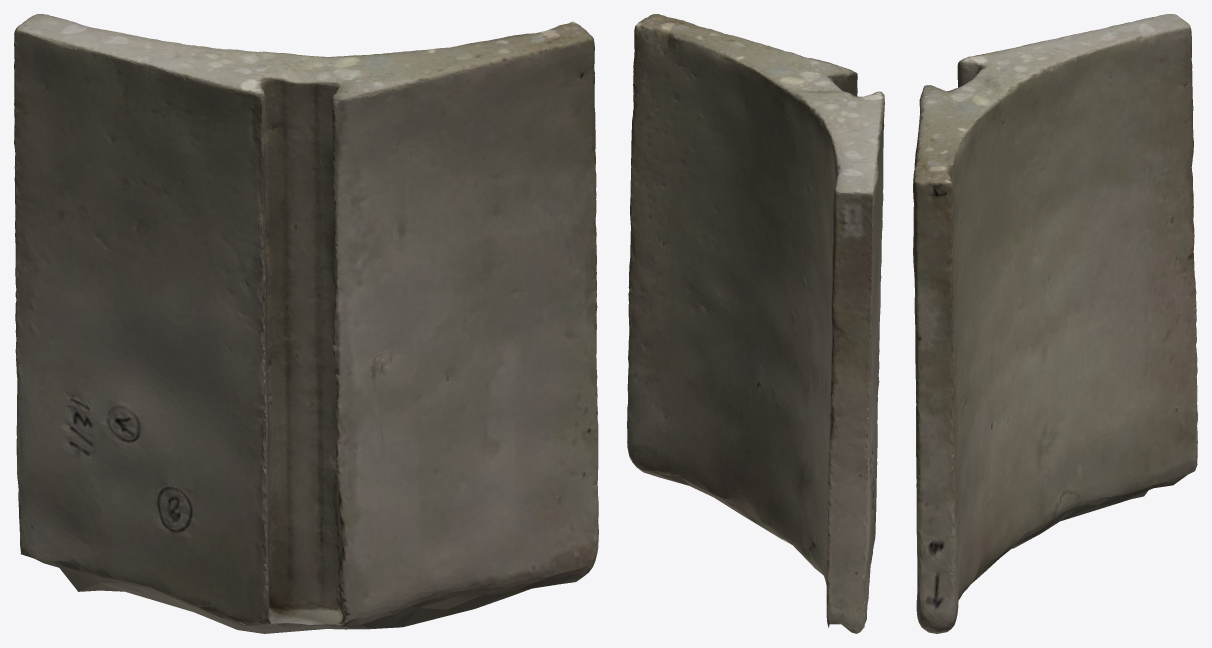
The model's file is Basement 5.glb.
The picture shows the model from 3 angles, left to right: view 1: azimuth 30°, elevation 25°; view 2: azimuth 150°, elevation 25°; view 3: azimuth 270°, elevation 25°; orthographic projection. The views are drawn at different scales.
Size of the model in its own units: 0.221 by 0.2796 by 0.1513.
Materials: 1 (1 with a texture image).
